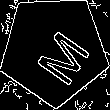M_NW: (22, 16, 87, 83)
